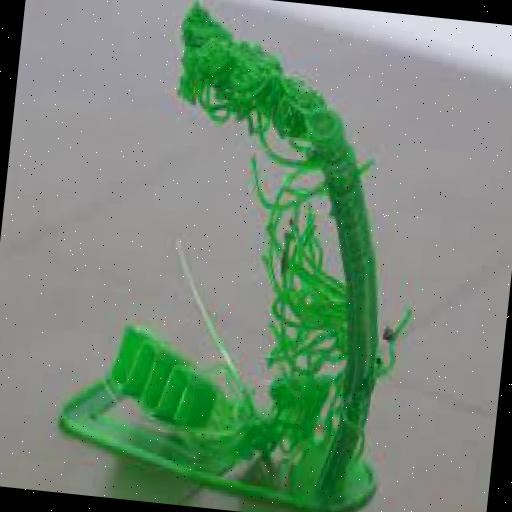spaghetti: (212, 150, 364, 484), (162, 1, 378, 160)
